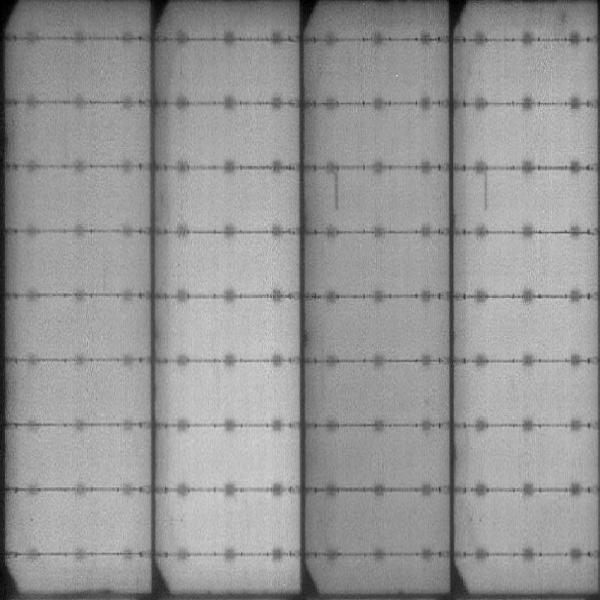scratch: (330, 171, 347, 211), (478, 173, 492, 210)
